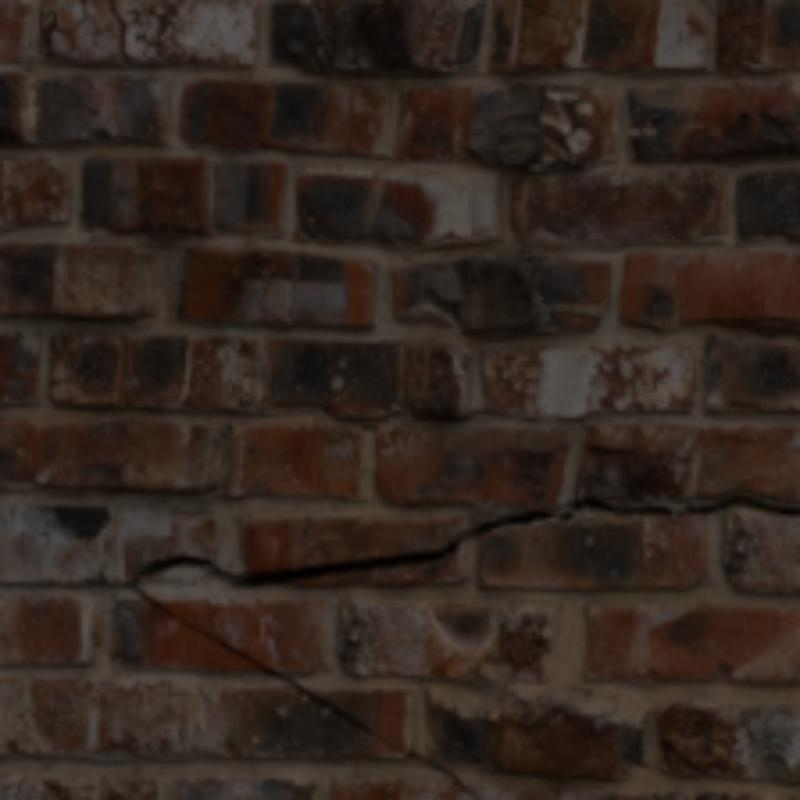crack: (121, 496, 796, 743), (104, 0, 132, 64)
